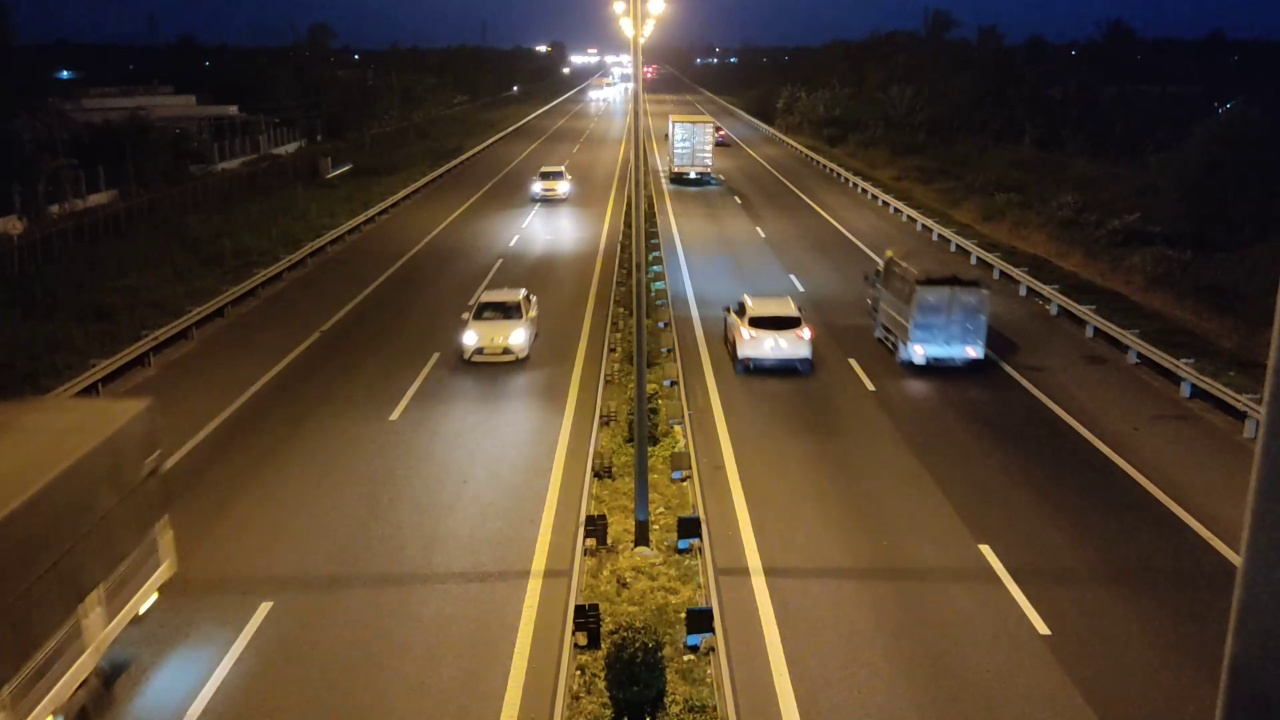car: (721, 286, 818, 379), (458, 286, 539, 364), (527, 165, 573, 203)
truck: (864, 250, 992, 369), (667, 114, 719, 184)
